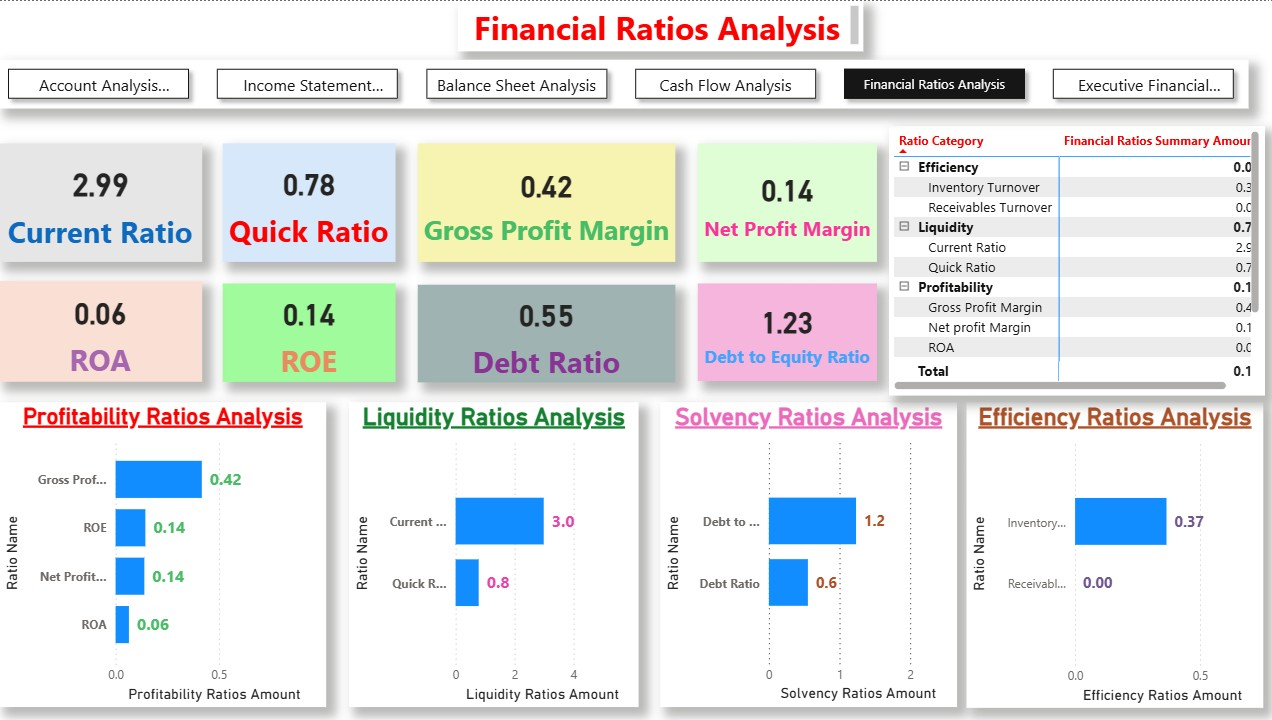

The page's visual inventory and layout, read from the dashboard file:
{"tool":"powerbi","page":{"name":"Financial Ratios Analysis","canvas":[1280,720],"ordinal":4},"visuals":[{"type":"textbox","box":[458.6,0,405.7,50.4],"z":0},{"type":"card","fields":{"Values":["Financial Measures.Gross Profit Margin"]},"box":[418.2,142.1,257.8,118.8],"z":1000},{"type":"card","fields":{"Values":["Financial Measures.Debt Ratio"]},"box":[418.2,283.6,257.8,97.3],"z":2000},{"type":"card","fields":{"Values":["Financial Measures.Current Ratio"]},"box":[0,141.9,202.8,118.4],"z":3000},{"type":"card","fields":{"Values":["Financial Measures.Quick Ratio"]},"box":[224.3,141.9,172.6,118.4],"z":4000},{"type":"card","fields":{"Values":["Financial Measures.ROE"]},"box":[224.3,283,172.6,98.3],"z":5000},{"type":"card","fields":{"Values":["Financial Measures.ROA"]},"box":[0,280.5,202.8,100.8],"z":6000},{"type":"card","fields":{"Values":["Financial Measures.Debt to Equity Ratio"]},"box":[698.8,282.4,179.4,97.3],"z":7000},{"type":"card","fields":{"Values":["Financial Measures.Net Profit Margin"]},"box":[698.8,142.1,179.4,118.8],"z":8000},{"type":"clusteredBarChart","title":"Profitability Ratios Analysis","fields":{"Category":["Profitability Ratios Layout.Ratio Name"],"Y":["Financial Measures.Profitability Ratios Amount"]},"box":[0,400.6,327.6,304.9],"z":9000},{"type":"clusteredBarChart","title":"Liquidity Ratios Analysis","fields":{"Category":["Liquidity Ratios Layout.Ratio Name"],"Y":["Financial Measures.Liquidity Ratios Amount"]},"box":[350.2,400.6,289.8,304.9],"z":10000},{"type":"clusteredBarChart","title":"Solvency Ratios Analysis","fields":{"Category":["Solvency Ratios Layout.Ratio Name"],"Y":["Financial Measures.Solvency Ratios Amount"]},"box":[660.8,401.8,296.9,304.5],"z":11000},{"type":"clusteredBarChart","title":"Efficiency Ratios Analysis","fields":{"Category":["Efficiency Ratios Layout.Ratio Name"],"Y":["Financial Measures.Efficiency Ratios Amount"]},"box":[967.9,401.8,296.9,305.8],"z":12000},{"type":"pivotTable","fields":{"Rows":["Financial Ratios Summary Layout.Ratio Category","Financial Ratios Summary Layout.Ratio Name"],"Values":["Financial Measures.Financial Ratios Summary Amount"]},"box":[889.9,125.2,375.6,269.2],"z":13000},{"type":"pageNavigator","box":[0,59.2,1249.3,48.5],"z":14000}]}

Visuals, with their boxes in screenshot pixels (x1, y1, x2, y2), scaled from the page's 1280x720 canvas onto the 1272x720 screenshot:
textbox: l=456, t=0, r=859, b=50
card - Financial Measures.Gross Profit Margin: l=416, t=142, r=672, b=261
card - Financial Measures.Debt Ratio: l=416, t=284, r=672, b=381
card - Financial Measures.Current Ratio: l=0, t=142, r=202, b=260
card - Financial Measures.Quick Ratio: l=223, t=142, r=394, b=260
card - Financial Measures.ROE: l=223, t=283, r=394, b=381
card - Financial Measures.ROA: l=0, t=280, r=202, b=381
card - Financial Measures.Debt to Equity Ratio: l=694, t=282, r=873, b=380
card - Financial Measures.Net Profit Margin: l=694, t=142, r=873, b=261
"Profitability Ratios Analysis" clusteredBarChart: l=0, t=401, r=326, b=706
"Liquidity Ratios Analysis" clusteredBarChart: l=348, t=401, r=636, b=706
"Solvency Ratios Analysis" clusteredBarChart: l=657, t=402, r=952, b=706
"Efficiency Ratios Analysis" clusteredBarChart: l=962, t=402, r=1257, b=708
pivotTable - Financial Ratios Summary Layout.Ratio Category x Financial Ratios Summary Layout.Ratio Name: l=884, t=125, r=1258, b=394
pageNavigator: l=0, t=59, r=1241, b=108
